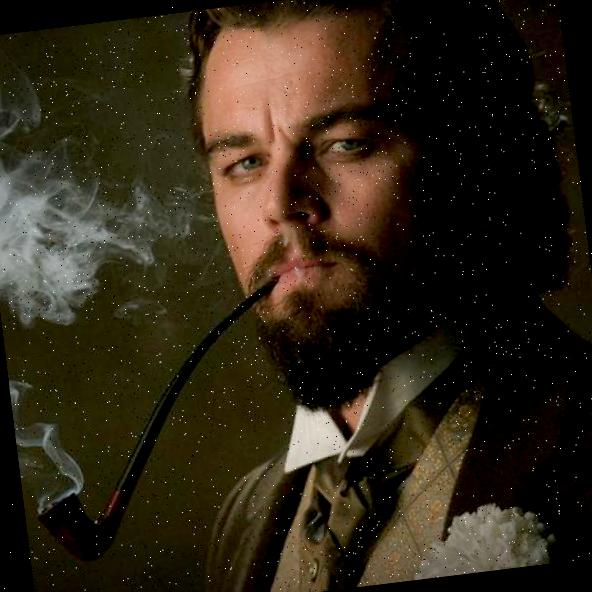smoke: (0, 17, 174, 320), (9, 379, 86, 491)
